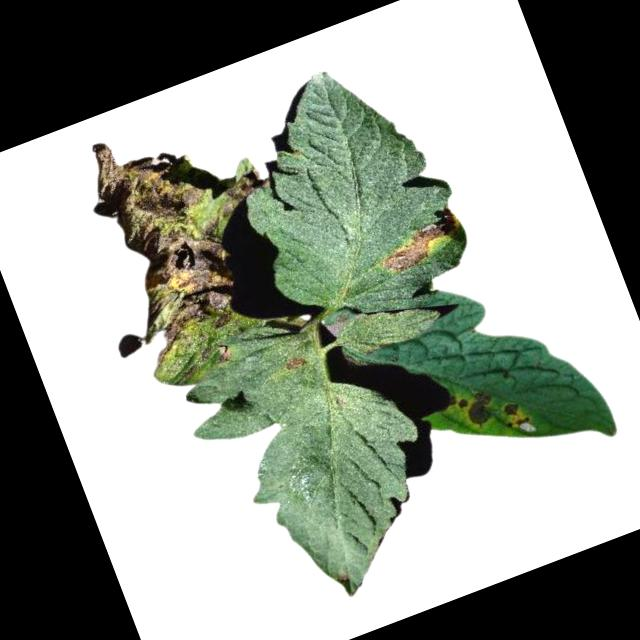Early_blight: (72, 89, 328, 391), (372, 202, 469, 275), (448, 384, 497, 430), (496, 394, 532, 433), (280, 349, 309, 374)
